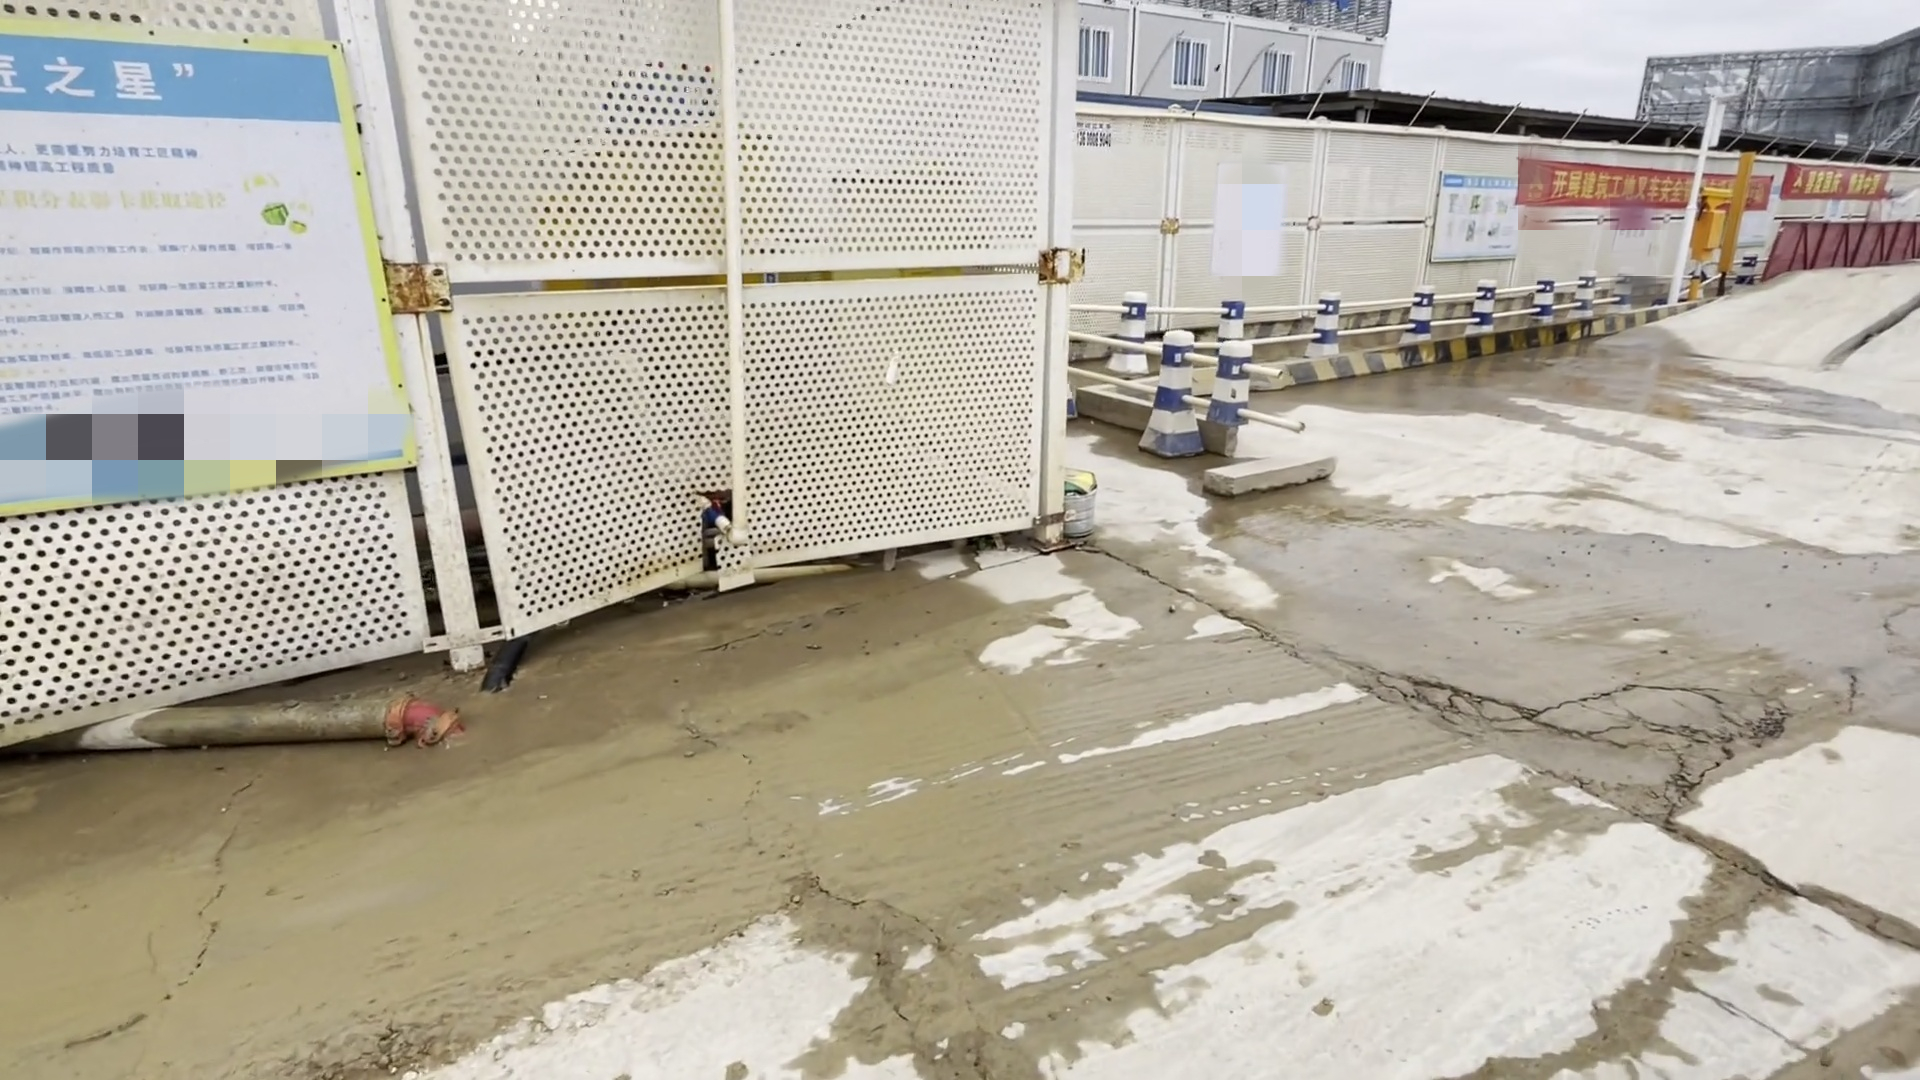slogan: (1510, 142, 1908, 220)
